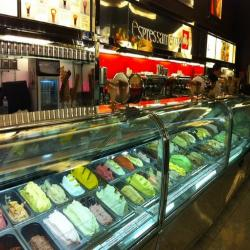icecream: (8, 174, 124, 241), (101, 149, 171, 208), (169, 129, 222, 171)
